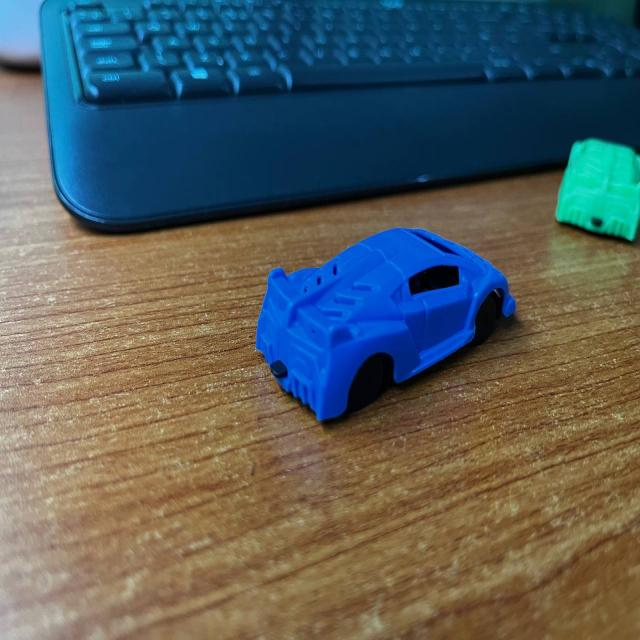car: (248, 222, 524, 429), (555, 128, 639, 270)
